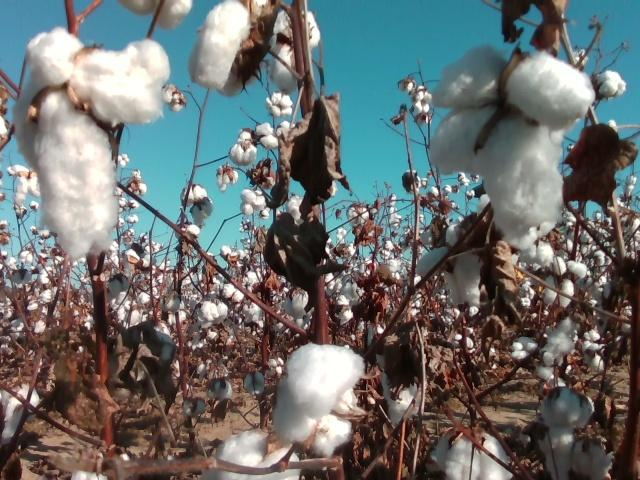cotton_ready: (18, 29, 171, 256), (427, 47, 594, 231), (188, 0, 320, 96), (271, 345, 365, 454), (416, 224, 483, 304), (198, 432, 301, 480), (431, 434, 515, 480), (543, 427, 608, 480), (380, 357, 421, 426), (0, 380, 40, 440), (119, 0, 194, 29), (537, 389, 595, 426), (543, 258, 575, 305)
